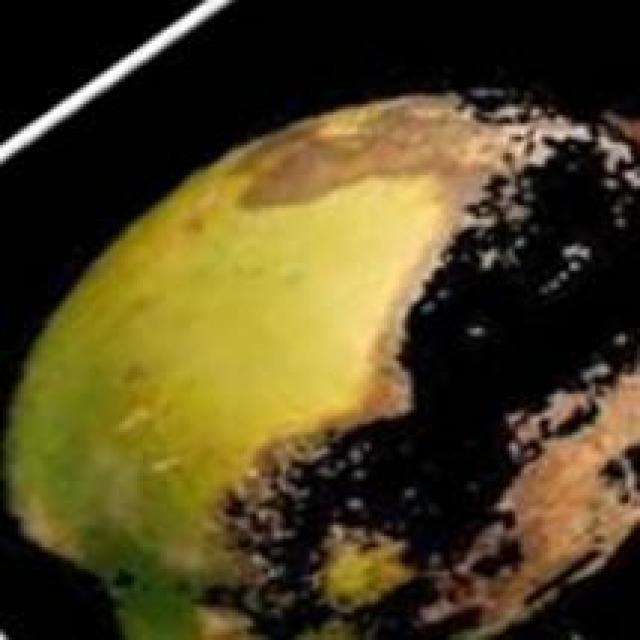damaged: (6, 88, 637, 637)
